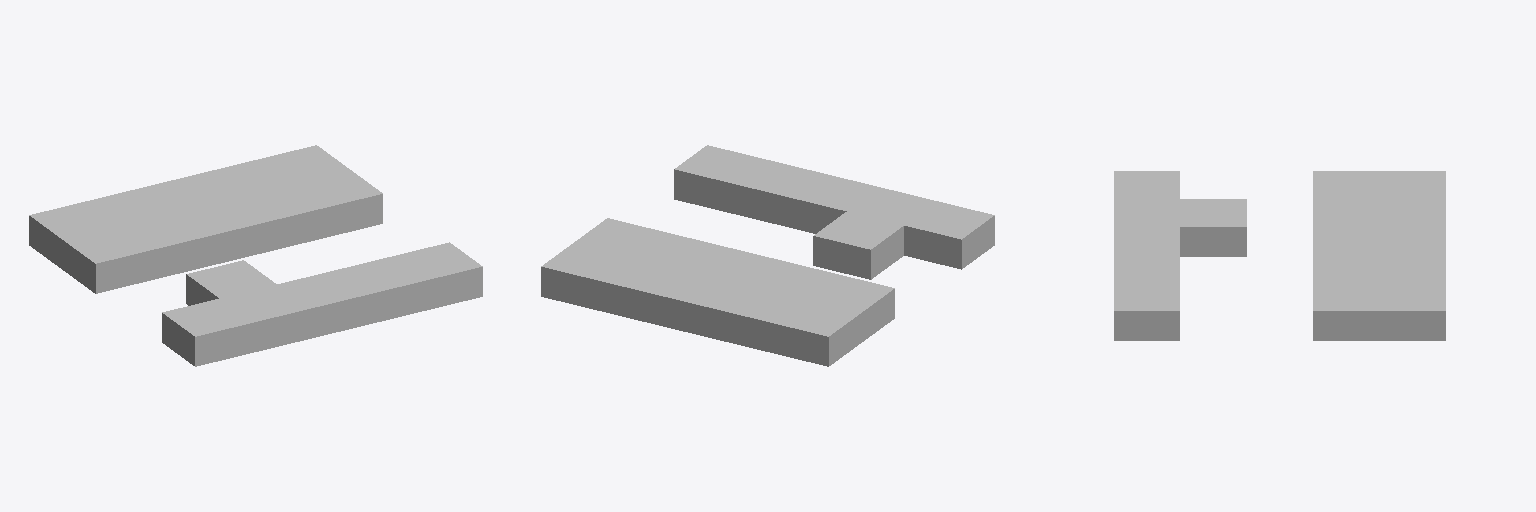
File: 72s_block.obj
3 views of the same model, side by side, from view 1: azimuth 30°, elevation 25°; view 2: azimuth 150°, elevation 25°; view 3: azimuth 270°, elevation 25° (orthographic).
Parts seen in each view (by area): view 1: block.0.0_block.4965, block.0.3_block.4967, block.4.0_block.4979, block.1.3_block.4971, block.2.0_block.4973, block.3.3_block.4977, block.4.3_block.4980, block.1.0_block.4969, block.2.3_block.4974, block.3.0_block.4976, block.0.4_block.4968, block.1.1_block.4970 (+4 smaller); view 2: block.0.0_block.4965, block.1.1_block.4970, block.0.4_block.4968, block.4.4_block.4981, block.2.4_block.4975, block.4.0_block.4979, block.1.4_block.4972, block.3.0_block.4976, block.3.4_block.4978, block.2.0_block.4973, block.0.3_block.4967, block.1.3_block.4971 (+4 smaller); view 3: block.1.1_block.4970, block.4.3_block.4980, block.4.0_block.4979, block.4.4_block.4981, block.0.3_block.4967, block.1.3_block.4971, block.2.3_block.4974, block.3.3_block.4977, block.0.0_block.4965, block.0.4_block.4968, block.1.0_block.4969, block.1.4_block.4972 (+4 smaller).
Boxes of the visible parts, x1,y1,x2,y2 form: block.0.0_block.4965: [162, 298, 252, 366]; block.0.3_block.4967: [62, 226, 152, 293]; block.4.0_block.4979: [392, 242, 482, 310]; block.1.3_block.4971: [120, 212, 210, 279]; block.2.0_block.4973: [277, 270, 367, 338]; block.3.3_block.4977: [235, 183, 325, 251]; block.4.3_block.4980: [293, 169, 382, 237]; block.1.0_block.4969: [220, 285, 309, 352]; block.2.3_block.4974: [177, 198, 267, 265]; block.3.0_block.4976: [335, 257, 424, 324]; block.0.4_block.4968: [29, 201, 119, 268]; block.1.1_block.4970: [186, 260, 276, 305]; block.0.0_block.4965: [904, 201, 994, 269]; block.1.1_block.4970: [813, 212, 903, 279]; block.0.4_block.4968: [771, 298, 861, 366]; block.4.4_block.4981: [541, 242, 631, 310]; block.2.4_block.4975: [656, 270, 746, 338]; block.4.0_block.4979: [674, 145, 763, 213]; block.1.4_block.4972: [714, 285, 803, 352]; block.3.0_block.4976: [732, 159, 821, 226]; block.3.4_block.4978: [599, 257, 688, 324]; block.2.0_block.4973: [789, 173, 878, 233]; block.0.3_block.4967: [805, 274, 894, 341]; block.1.3_block.4971: [747, 260, 836, 297]; block.1.1_block.4970: [1180, 199, 1246, 256]; block.4.3_block.4980: [1313, 283, 1379, 340]; block.4.0_block.4979: [1114, 283, 1179, 340]; block.4.4_block.4981: [1380, 283, 1445, 340]; block.0.3_block.4967: [1313, 171, 1379, 198]; block.1.3_block.4971: [1313, 199, 1379, 226]; block.2.3_block.4974: [1313, 227, 1379, 254]; block.3.3_block.4977: [1313, 255, 1379, 282]; block.0.0_block.4965: [1114, 171, 1179, 198]; block.0.4_block.4968: [1380, 171, 1445, 198]; block.1.0_block.4969: [1114, 199, 1179, 226]; block.1.4_block.4972: [1380, 199, 1445, 226].
Size of the model in its own units: 10 by 1 by 10.